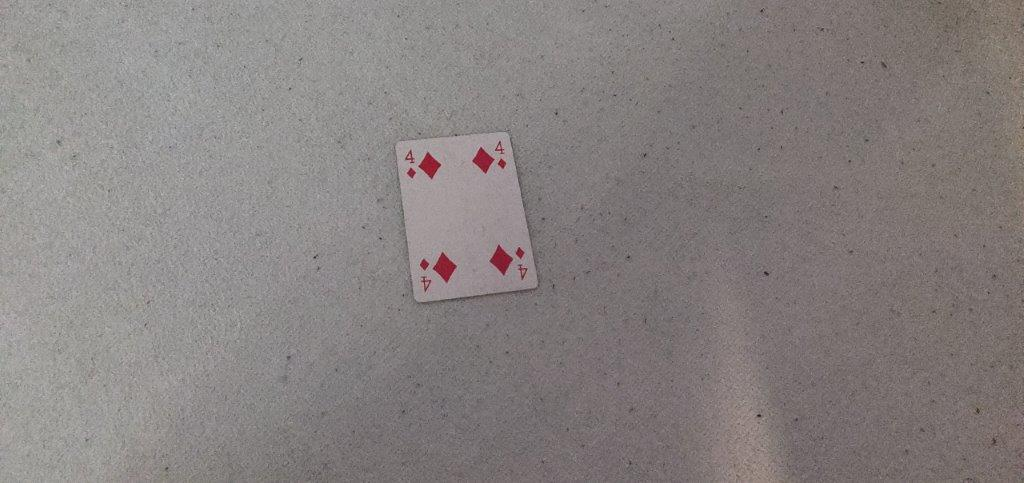4D: (399, 145, 418, 184), (494, 141, 512, 175)
